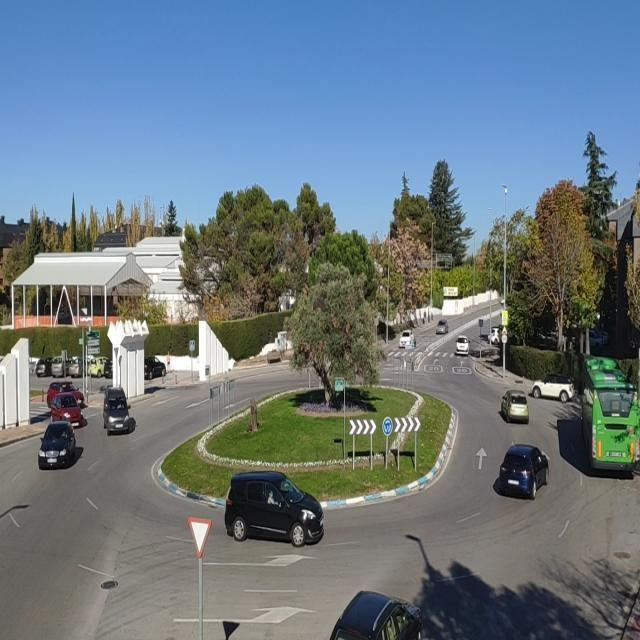Bus: (581, 356, 640, 476)
Car: (224, 469, 324, 546), (329, 588, 419, 640), (498, 444, 550, 498), (34, 424, 82, 474), (530, 372, 577, 402), (103, 385, 131, 435), (51, 396, 85, 430), (500, 388, 530, 422), (454, 334, 471, 356), (398, 329, 414, 349), (434, 318, 449, 335)
